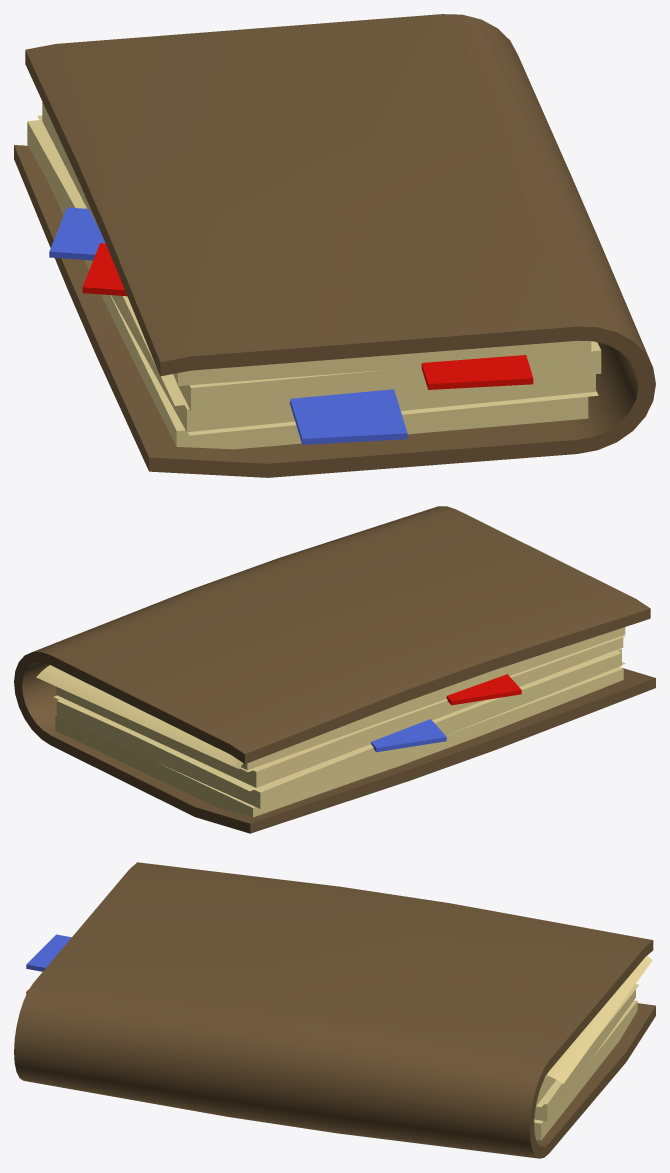
The model's file is dosjer.fbx.
The picture shows the model from 3 angles, top to bottom: view 1: azimuth 30°, elevation 25°; view 2: azimuth 150°, elevation 25°; view 3: azimuth 270°, elevation 25°; orthographic projection. The views are drawn at different scales.
Visible parts, largest first — view 1: Cube, Cube.012, Cube.001, Cube.002, Cube.003, Cube.004; view 2: Cube, Cube.012, Cube.003, Cube.004; view 3: Cube, Cube.012, Cube.001.
Boxes of the visible parts, x1,y1,x2,y2 form: Cube: [14, 14, 655, 477]; Cube.012: [27, 102, 601, 449]; Cube.001: [289, 389, 407, 444]; Cube.002: [421, 355, 533, 389]; Cube.003: [49, 207, 105, 260]; Cube.004: [82, 243, 126, 296]; Cube: [14, 506, 655, 833]; Cube.012: [36, 627, 625, 817]; Cube.003: [371, 719, 446, 752]; Cube.004: [446, 674, 521, 705]; Cube: [14, 862, 655, 1158]; Cube.012: [534, 955, 652, 1140]; Cube.001: [26, 934, 71, 971].
Bounding box in the file's own units: 924 × 200 × 1104.
